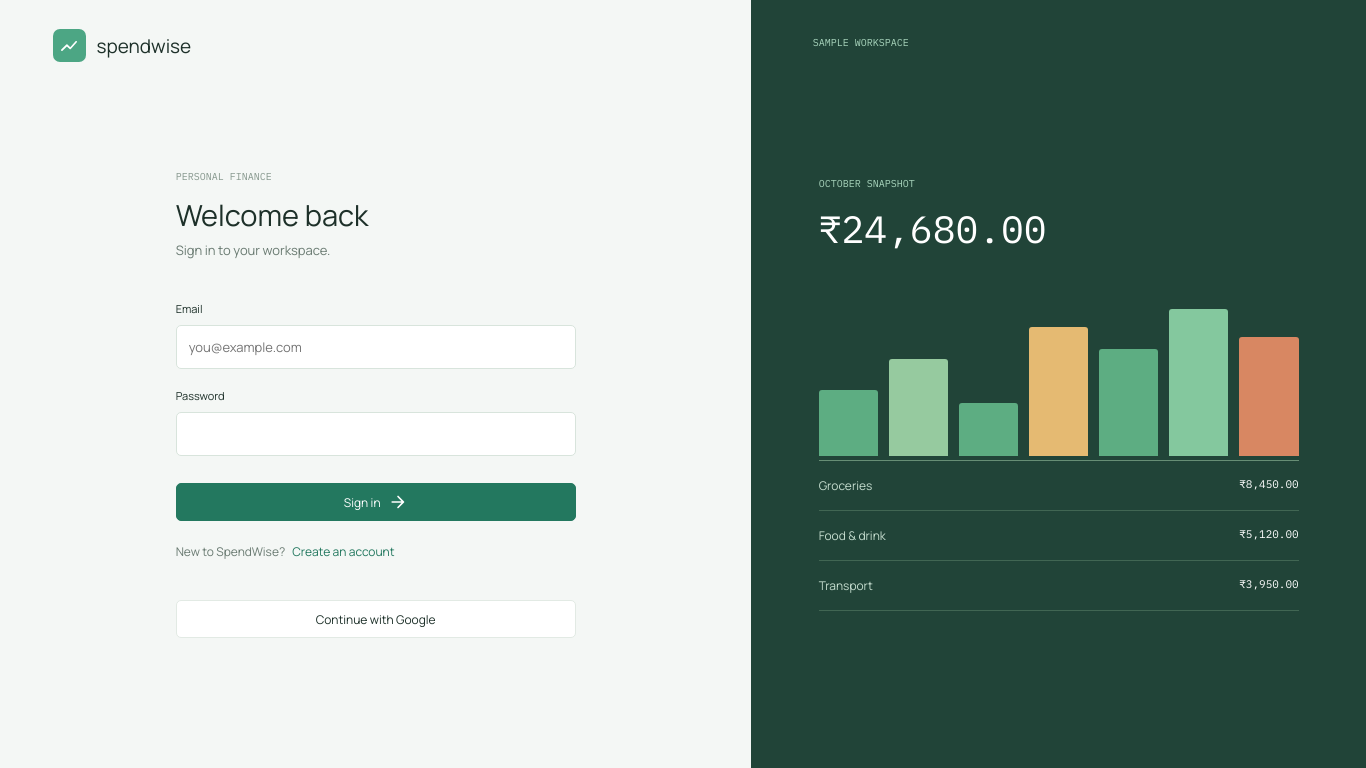
Scenario: authentication › redirects an unknown email to registration with the email prefilled
This screenshot has width=1366, height=768.
Type "new@example.com" into the field labelled "Email".
click(376, 347); type("new@example.com")  # box [176, 325, 576, 369]
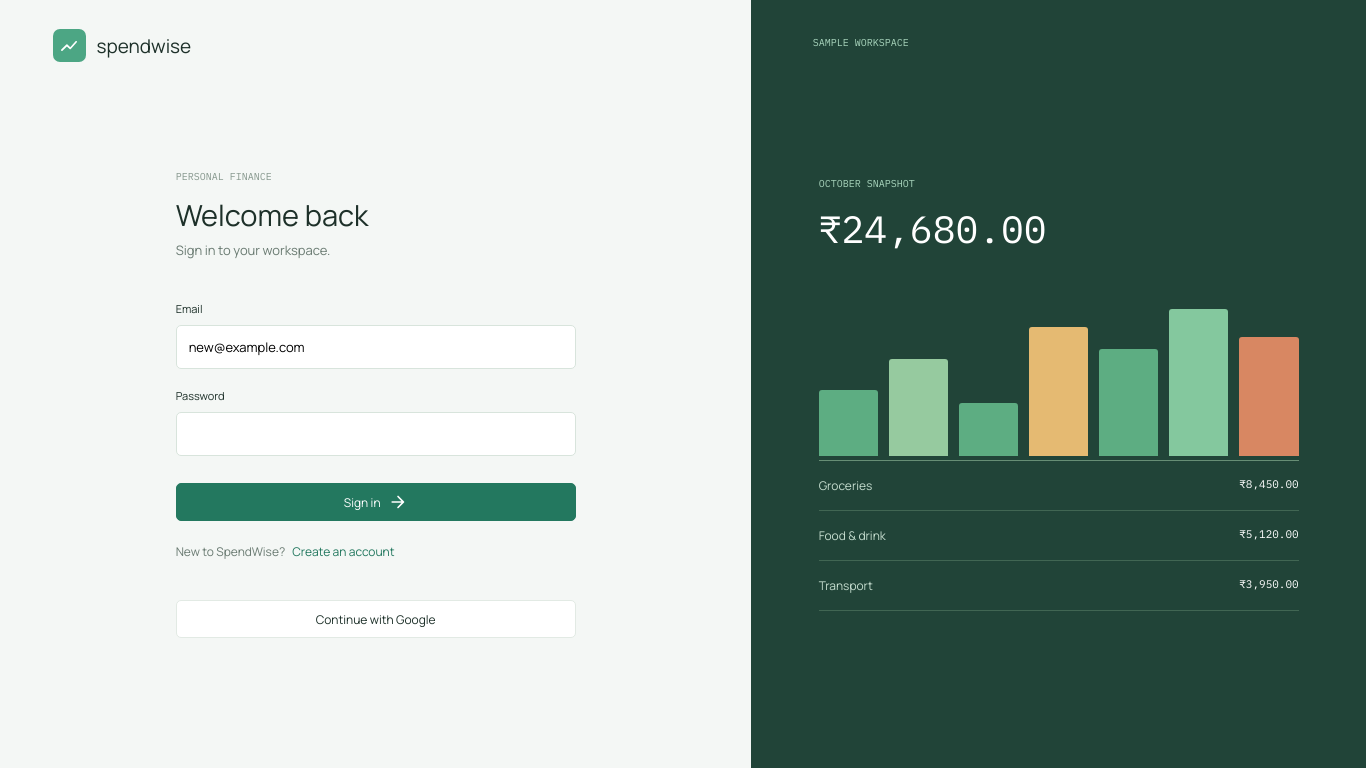
Type "long-test-password" into the password field labelled "Password".
click(376, 434); type("long-test-password")  # box [176, 412, 576, 456]
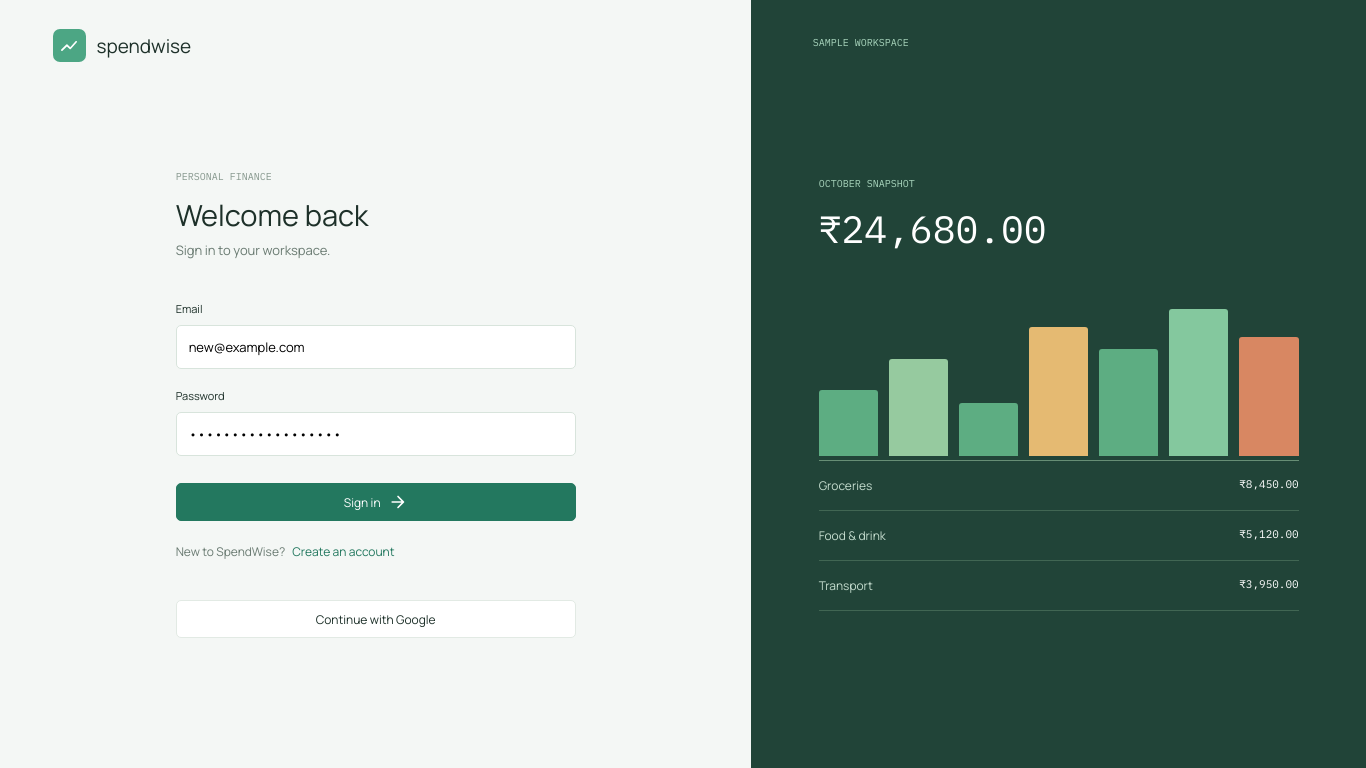
Click the button "Sign in".
click(376, 502)  # box [176, 483, 576, 521]
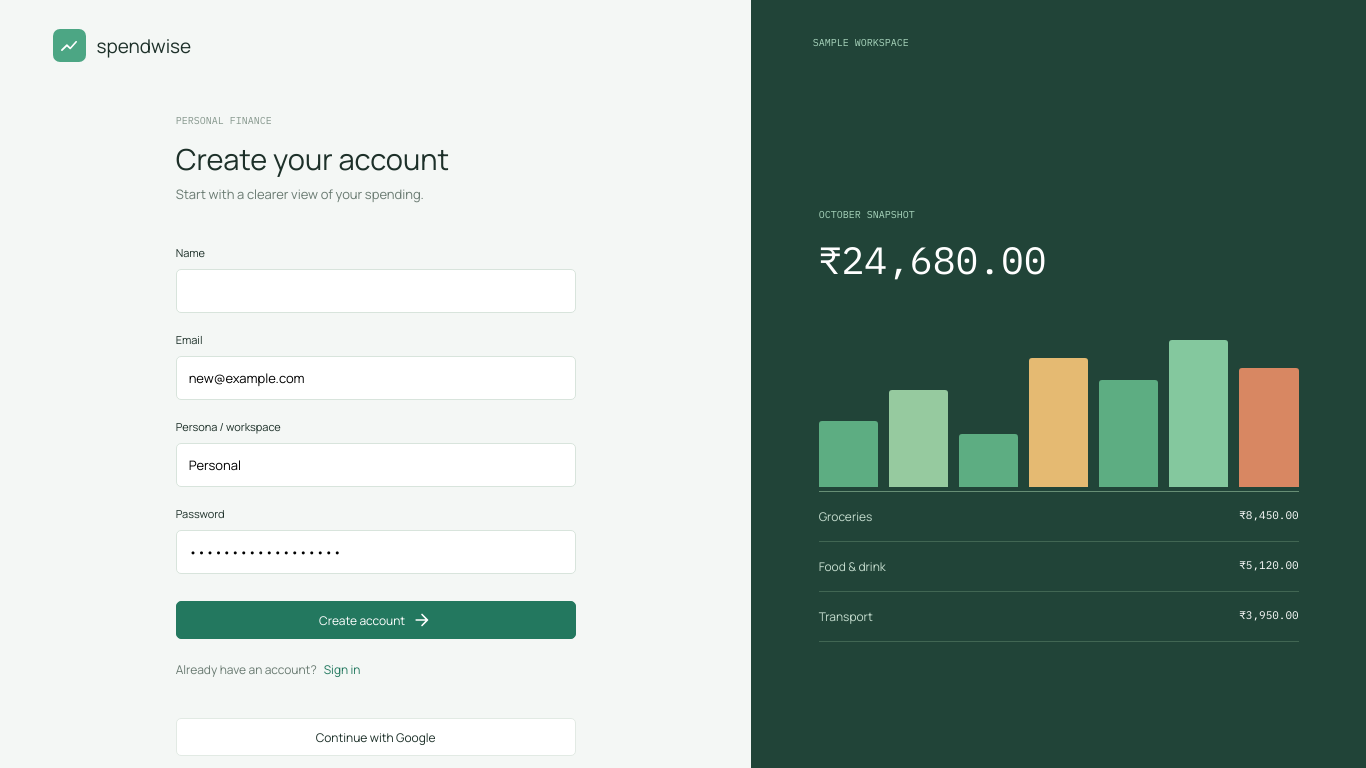
Result: the heading "Create your account" is shown at [176, 139, 449, 179]
